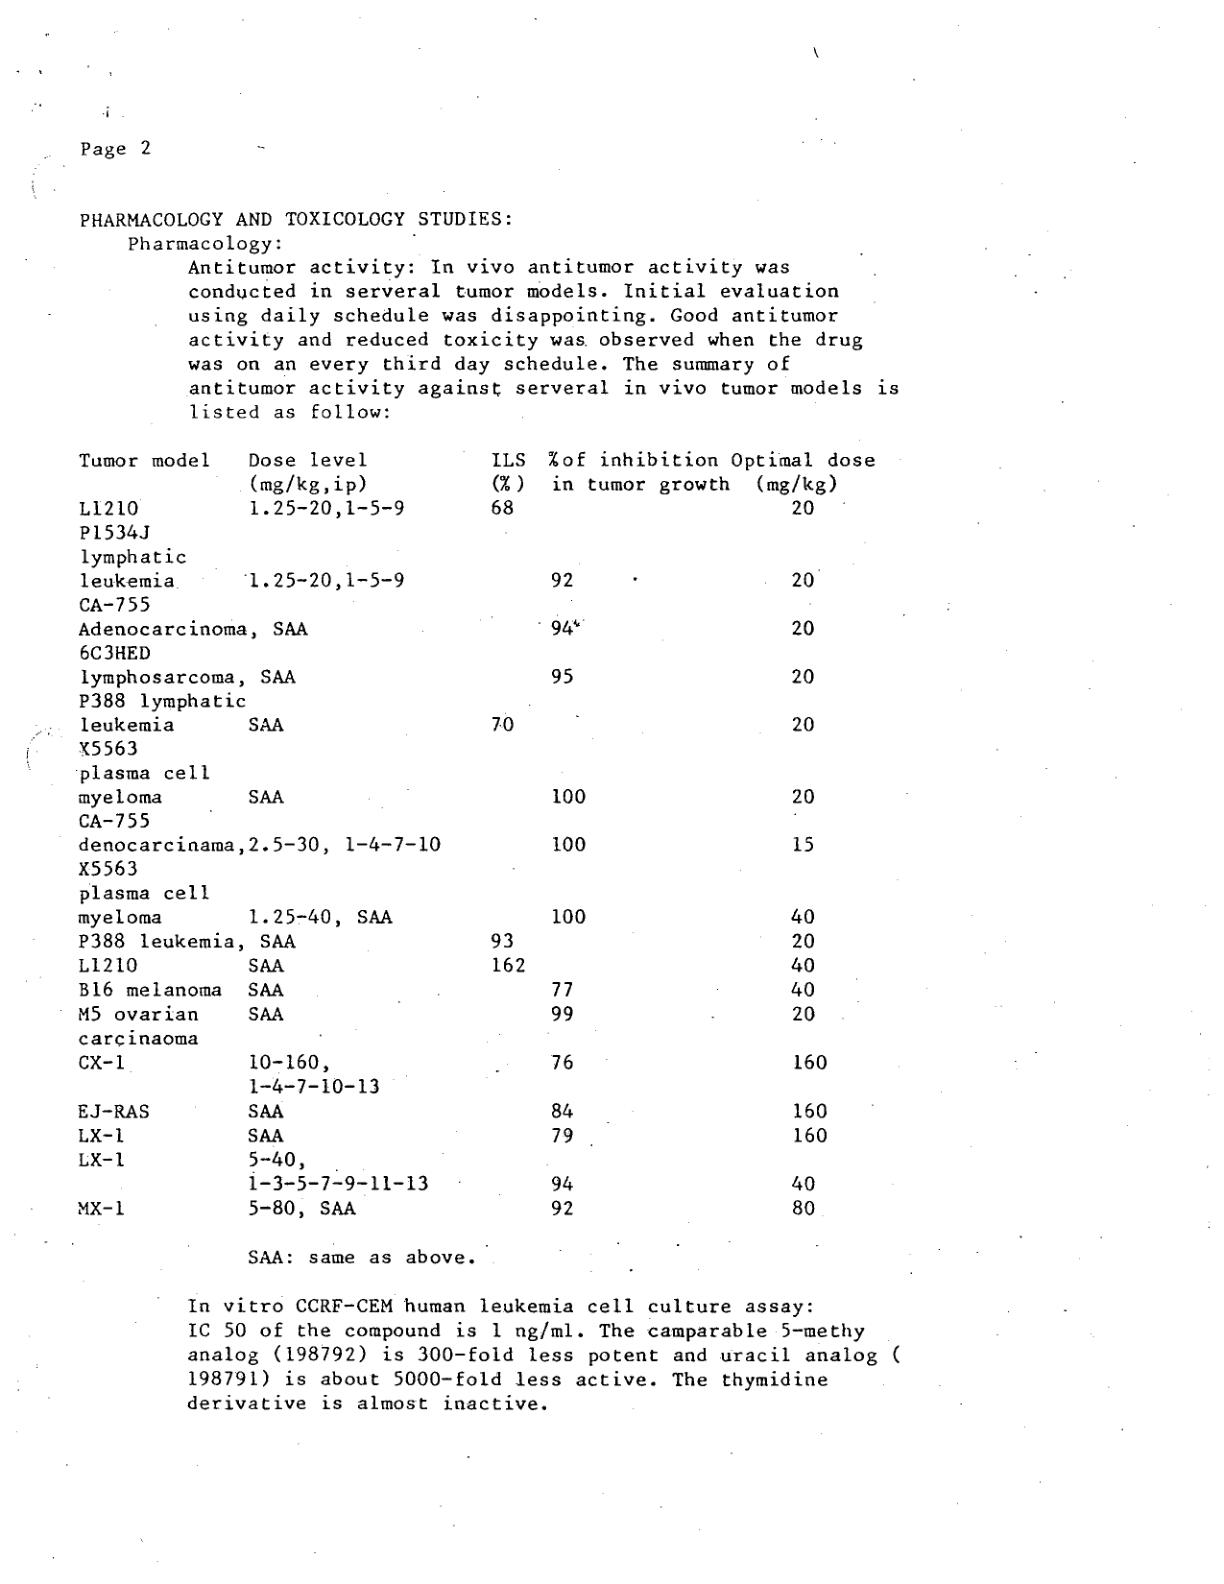nolines: (77, 447, 877, 1218)
